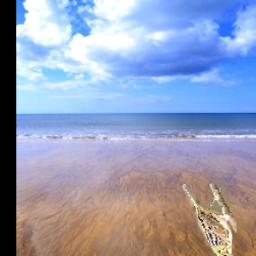Sparrow: (182, 184, 237, 256)
